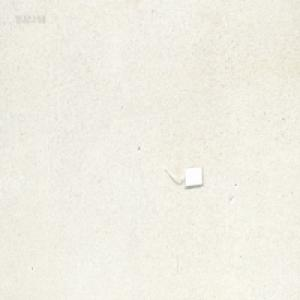LuggageTag: (163, 163, 203, 189)
